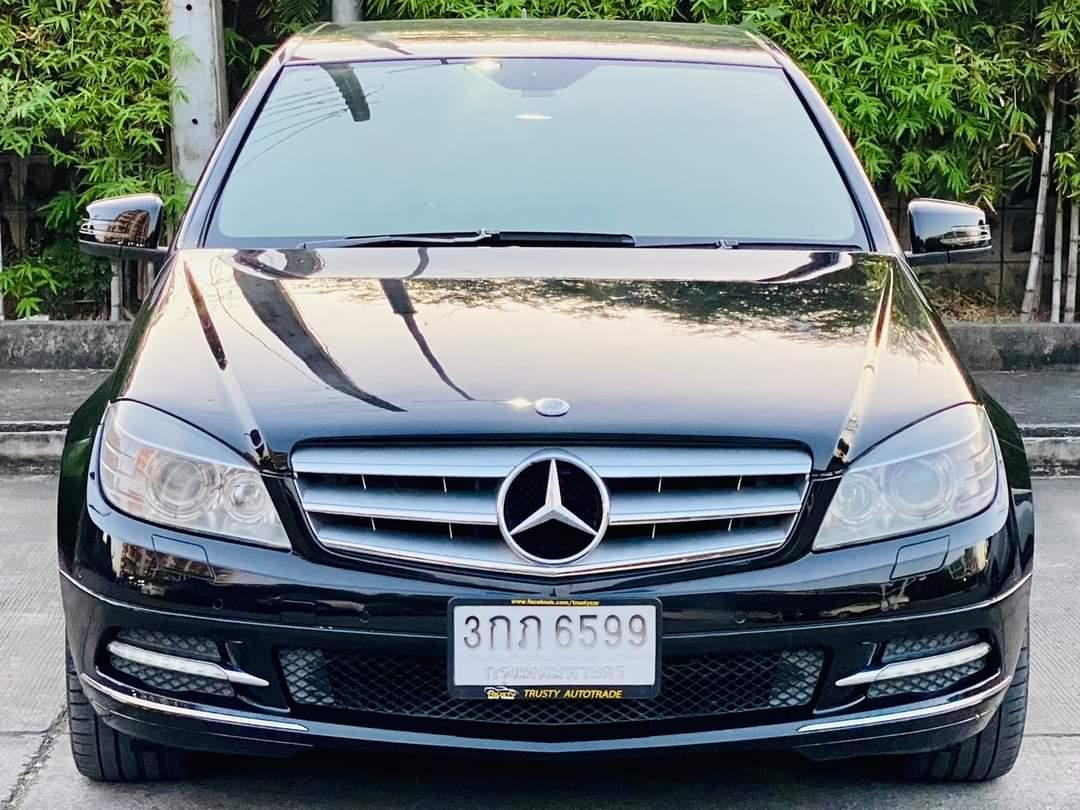license-plate: (440, 589, 672, 702)
